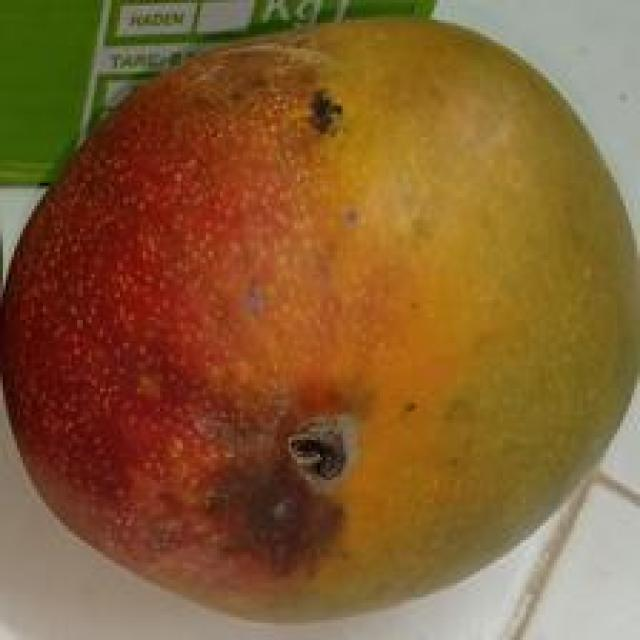Bad_Mango: (0, 25, 638, 619)
